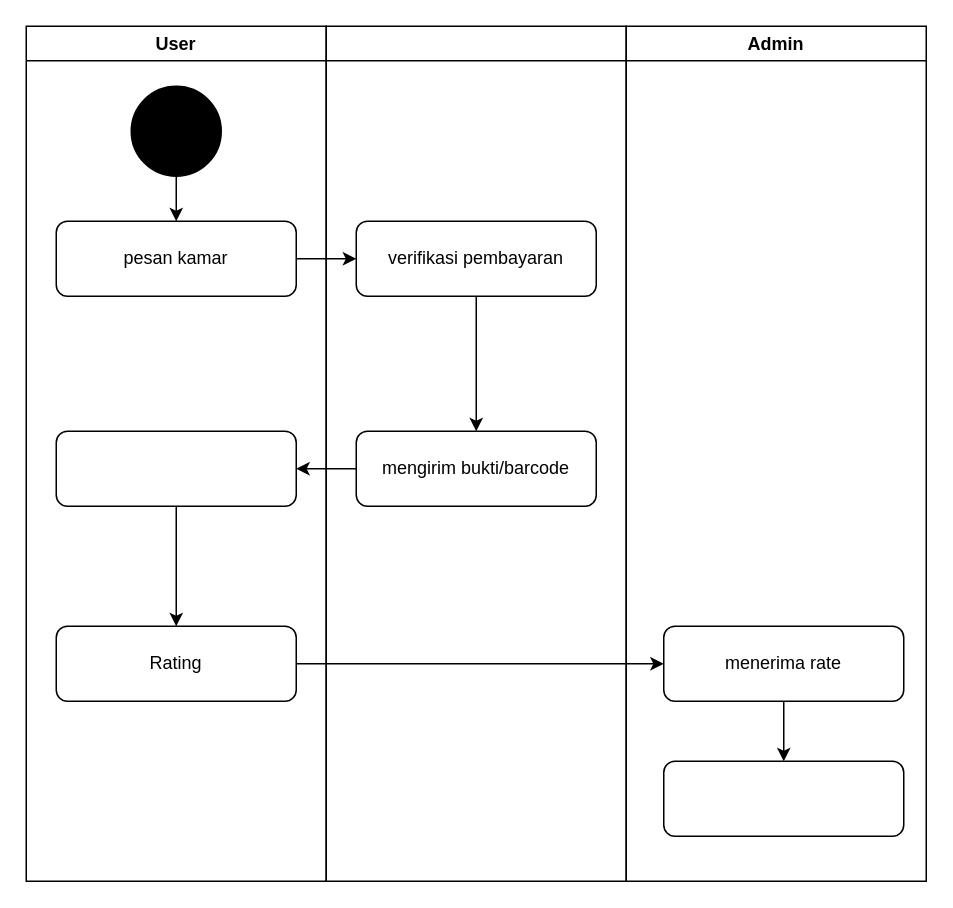
This 953x908 diagram has some shape labels left out. The box of each missing label's shape, as (x1, y1, x2, y2) in pixels:
Kasir: (325, 25, 626, 881)
Menerima bukti: (55, 430, 296, 506)
setting website: (662, 760, 904, 836)
